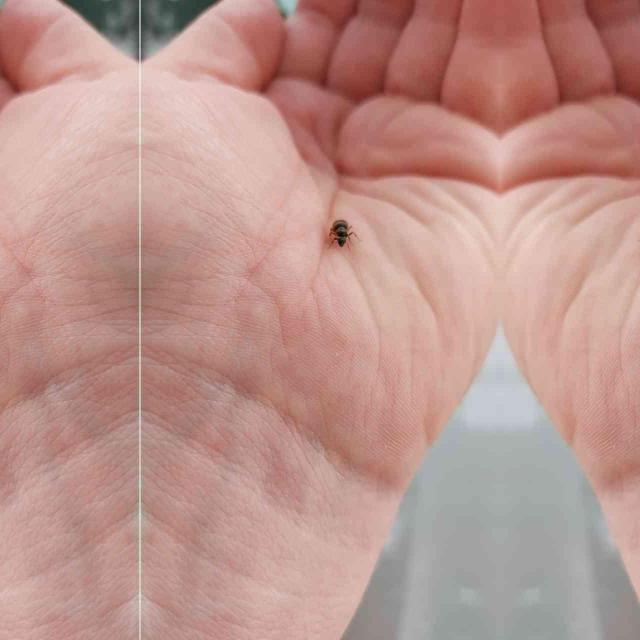Lasius: (326, 212, 354, 258)
